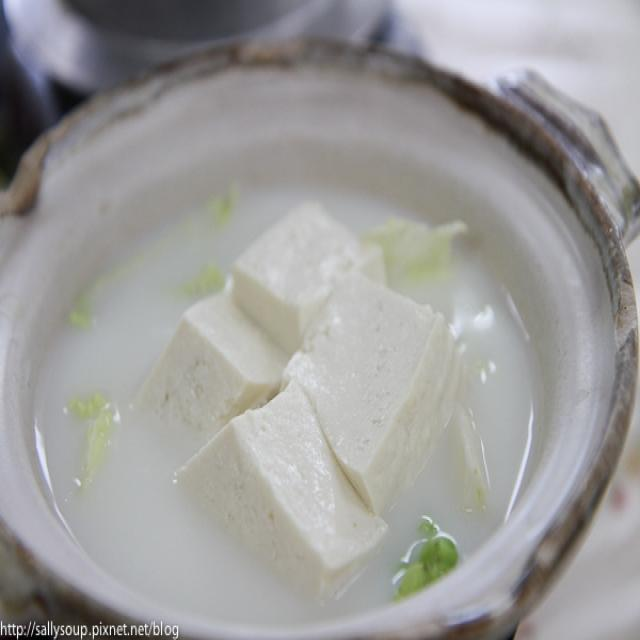豆腐料理: (6, 57, 630, 628)
